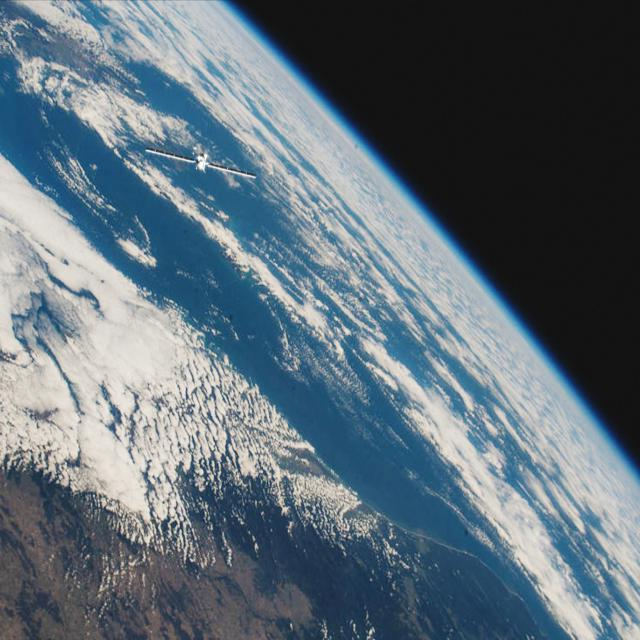satellite: (130, 130, 254, 190)
